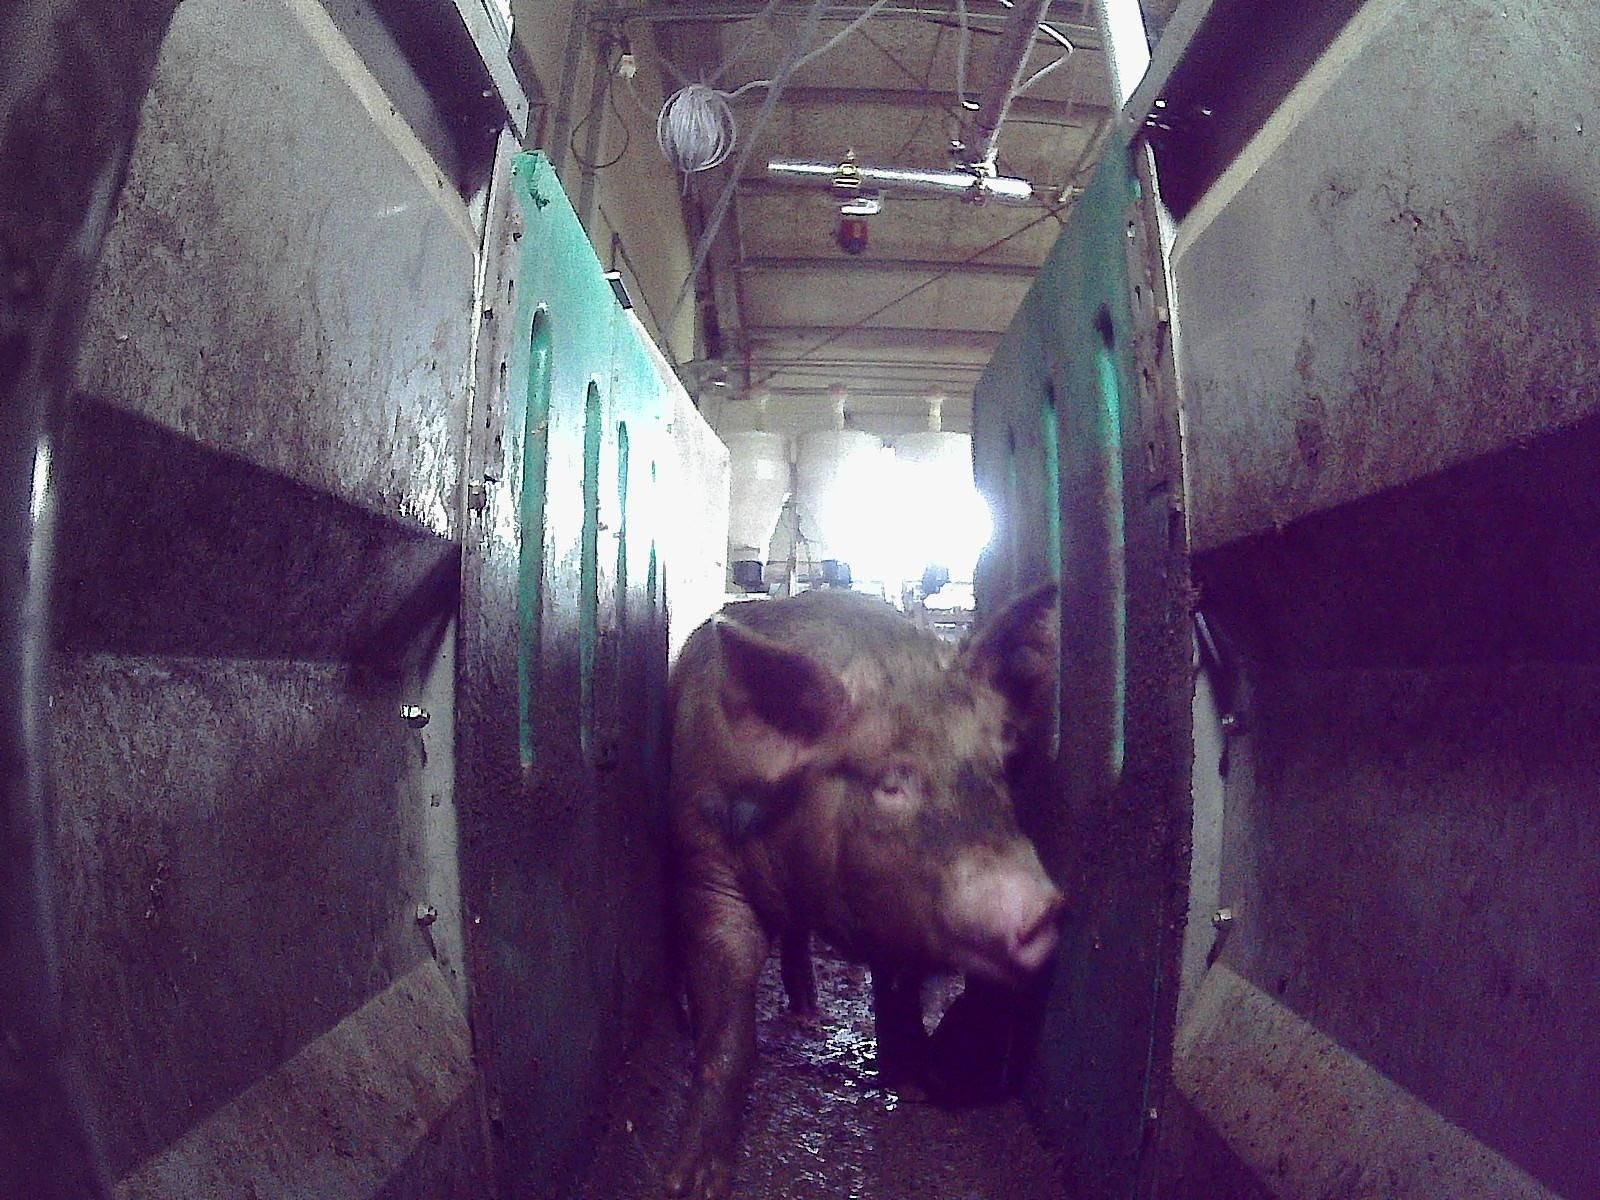Face: (820, 677, 1064, 983)
